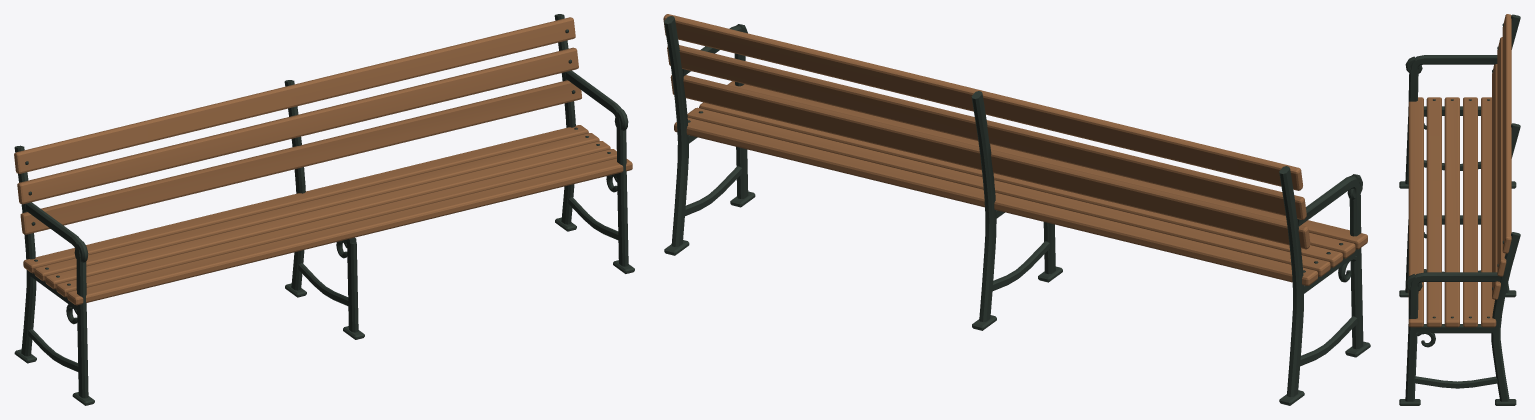
Rendered from parkBench.glb.
3 renders of one model, left to right at view 1: azimuth 30°, elevation 25°; view 2: azimuth 150°, elevation 25°; view 3: azimuth 270°, elevation 25°, orthographic. The views are drawn at different scales.
Parts seen in each view (by area): view 1: parkBench; view 2: parkBench; view 3: parkBench.
Part boxes in pixels (x1=…): parkBench: x1=14, y1=14, x2=634, y2=405; parkBench: x1=663, y1=14, x2=1370, y2=405; parkBench: x1=1399, y1=14, x2=1520, y2=405.
Bounding box in the file's own units: 2.5 × 0.8937 × 0.5713.
